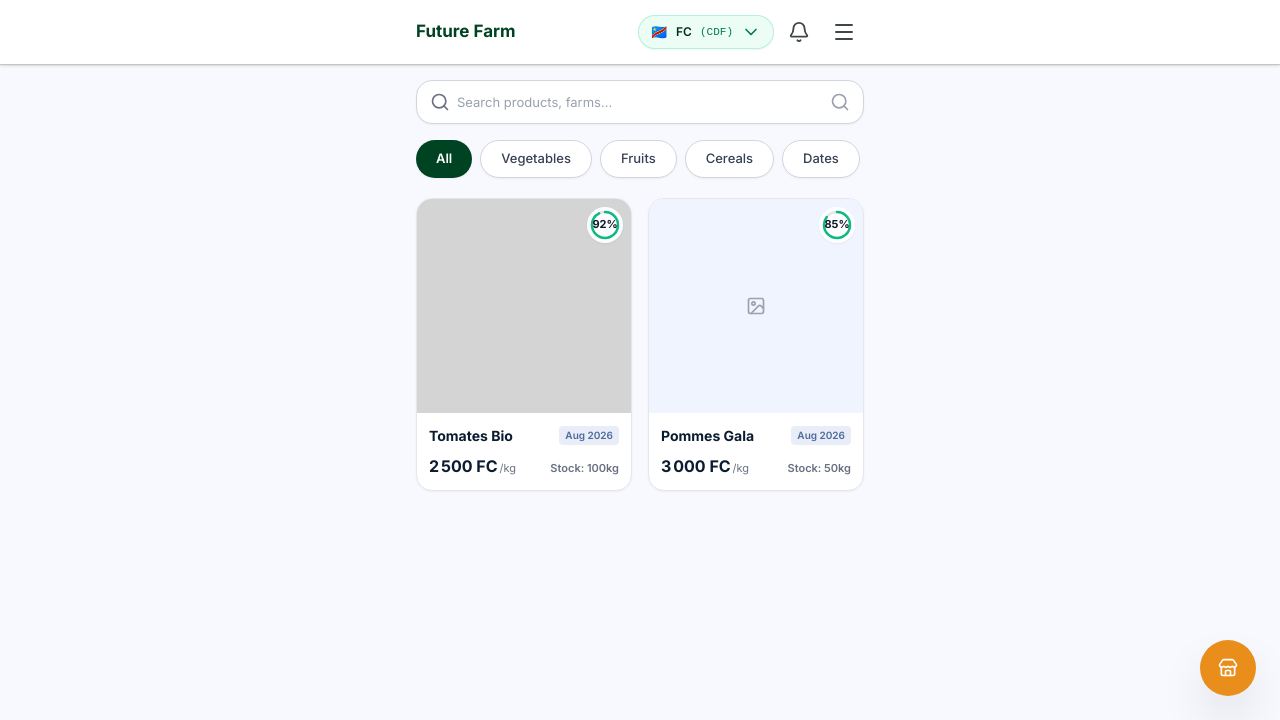
Scenario: MarketplacePage › filters harvest items by category and search query
Expected: the heading "Tomates Bio" is shown, [429,426,513,444]
Expected: the heading "Pommes Gala" is shown, [661,426,754,444]
# Filter by Fruits
Step 1. Click the button "Fruits" → [638, 159], box [600,140,677,178]
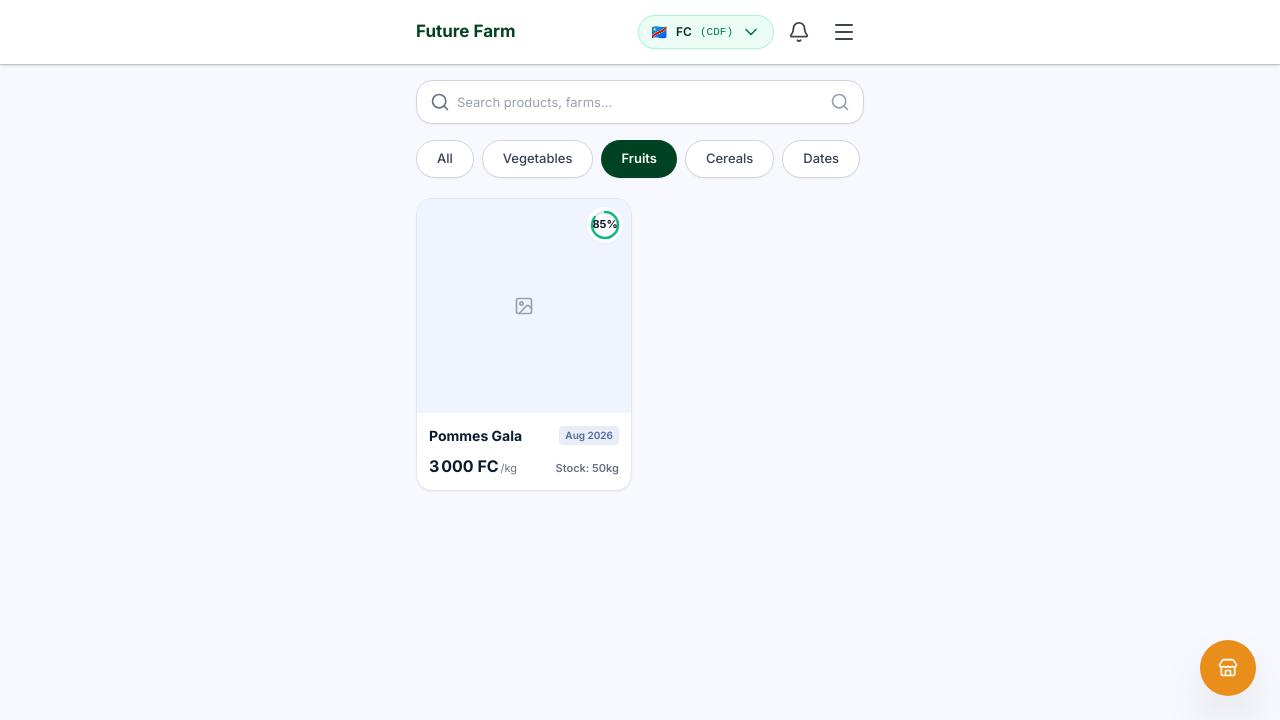
Expected: the heading "Pommes Gala" is shown, [429,426,522,444]
Expected: the link "Tomates Bio" is gone
# Reset filter to All
Step 2. Click the button "All" → [445, 159], box [416,140,474,178]
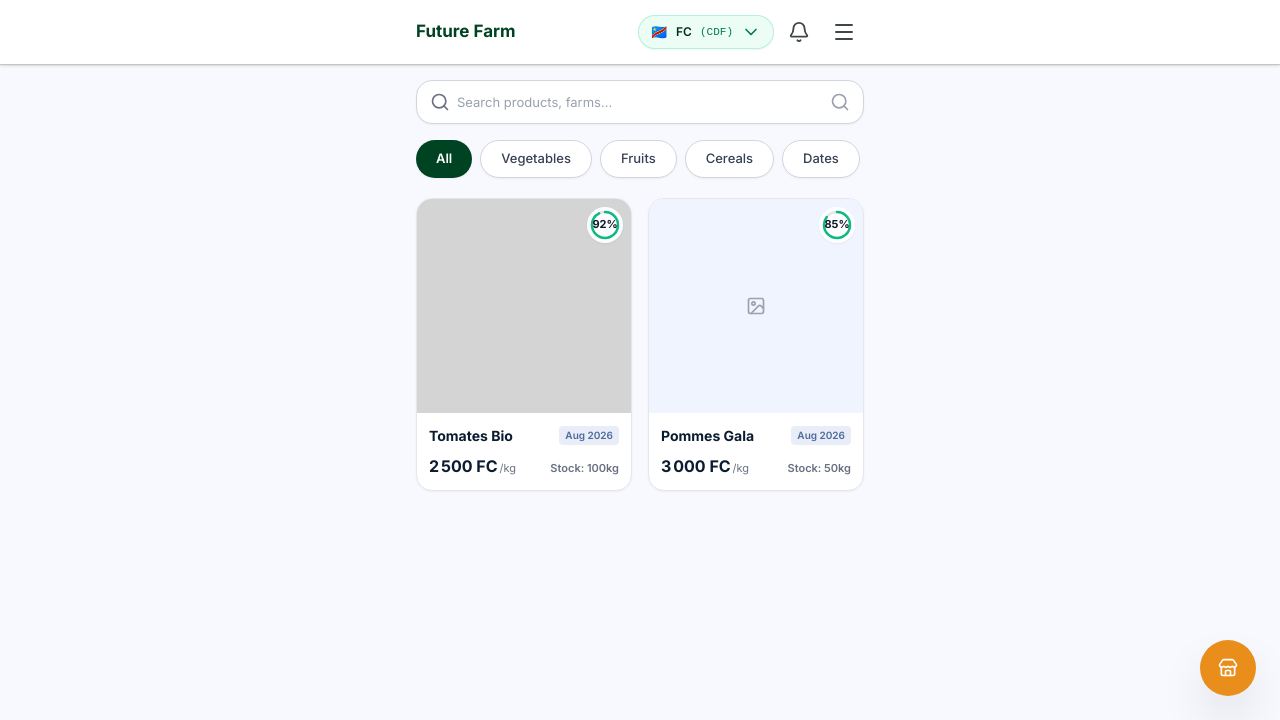
Expected: the heading "Pommes Gala" is shown, [661,426,754,444]
Expected: the heading "Tomates Bio" is shown, [429,426,513,444]
# Search query
Step 3. Type "Tomates" into the field with placeholder "Search products, farms..." → [640, 102], box [416,80,864,124]
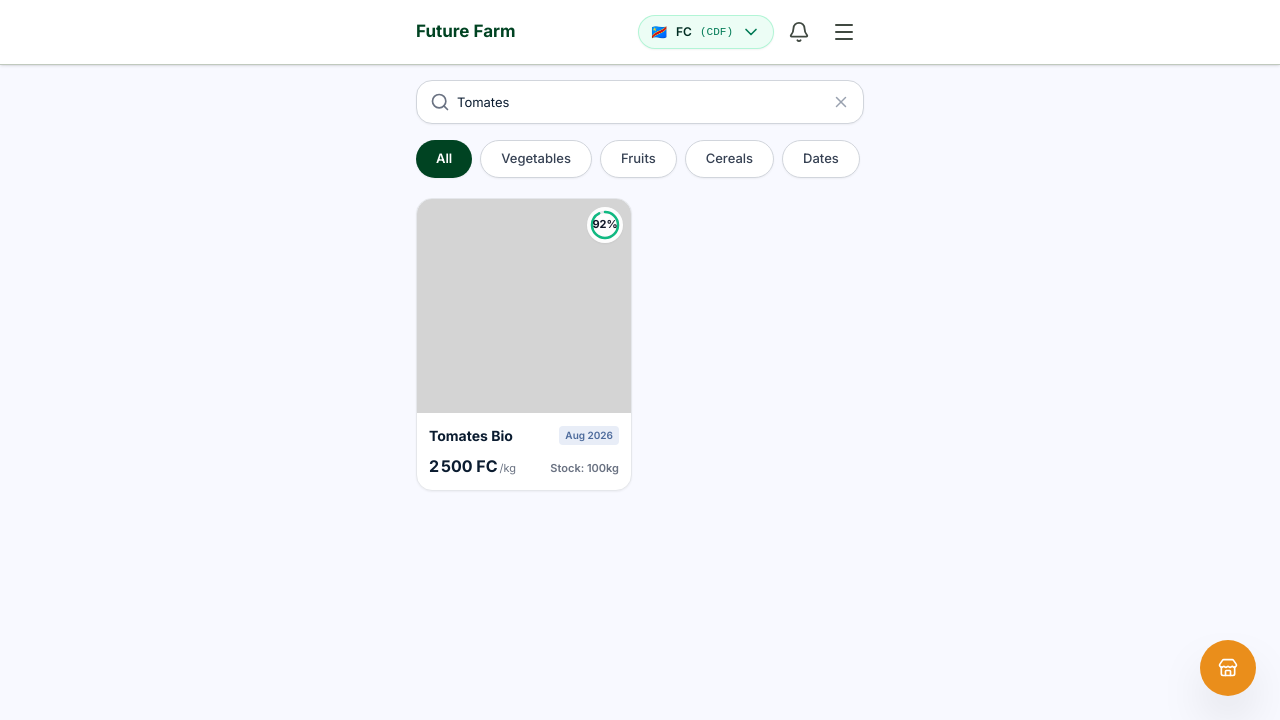
Expected: the heading "Tomates Bio" is shown, [429,426,513,444]
Expected: the link "Pommes Gala" is gone
